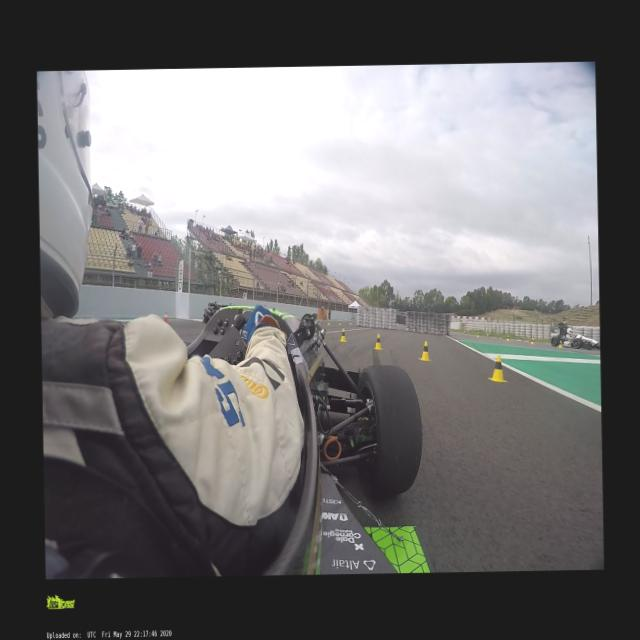orange_cone: (165, 311, 168, 321)
yellow_cone: (487, 354, 506, 384), (418, 341, 432, 362), (372, 334, 383, 351), (338, 328, 346, 341), (557, 340, 562, 348), (529, 338, 534, 345), (506, 334, 510, 341), (326, 319, 330, 325), (348, 319, 352, 325), (476, 332, 479, 338), (338, 320, 340, 324)
